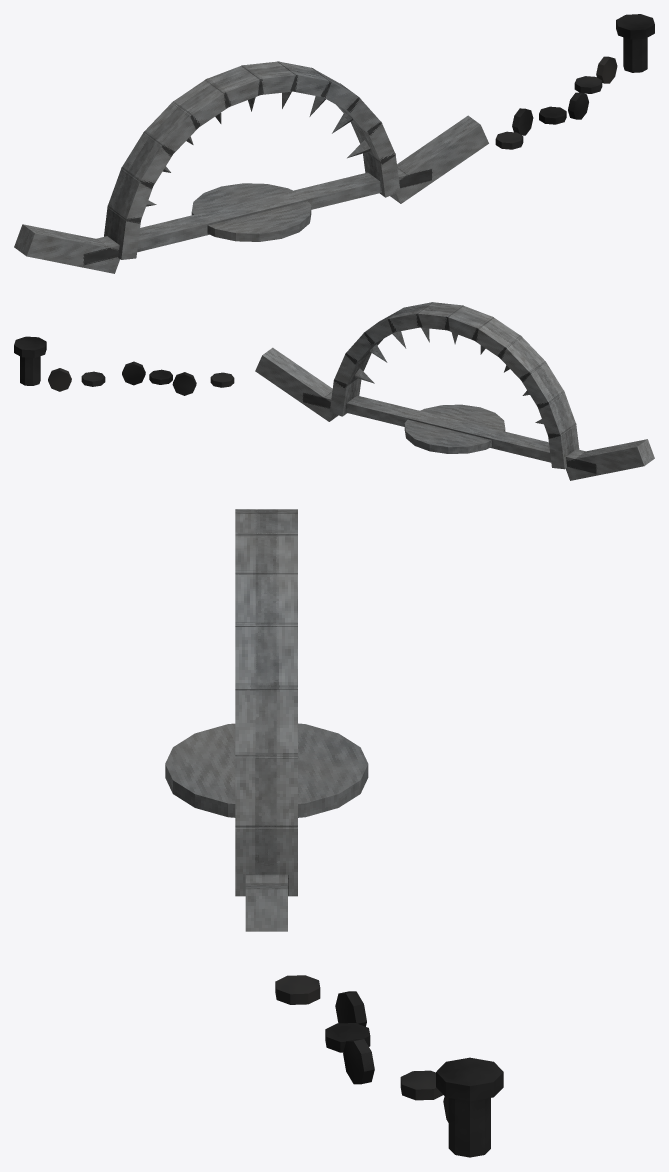
Rendered from trap_mine_light_sprung.glb.
3 renders of one model, top to bottom at view 1: azimuth 30°, elevation 25°; view 2: azimuth 150°, elevation 25°; view 3: azimuth 270°, elevation 25°, orthographic. The views are drawn at different scales.
Parts seen in each view (by area): view 1: trap_mine_light_sprung; view 2: trap_mine_light_sprung; view 3: trap_mine_light_sprung.
Boxes of the visible parts, box(x1,y1,x2,y2) form: trap_mine_light_sprung: box(14, 14, 654, 273); trap_mine_light_sprung: box(14, 302, 654, 480); trap_mine_light_sprung: box(165, 509, 503, 1157).
Size of the model in its own units: 1.59 by 0.3564 by 0.4.
2 materials, 2 textured.
